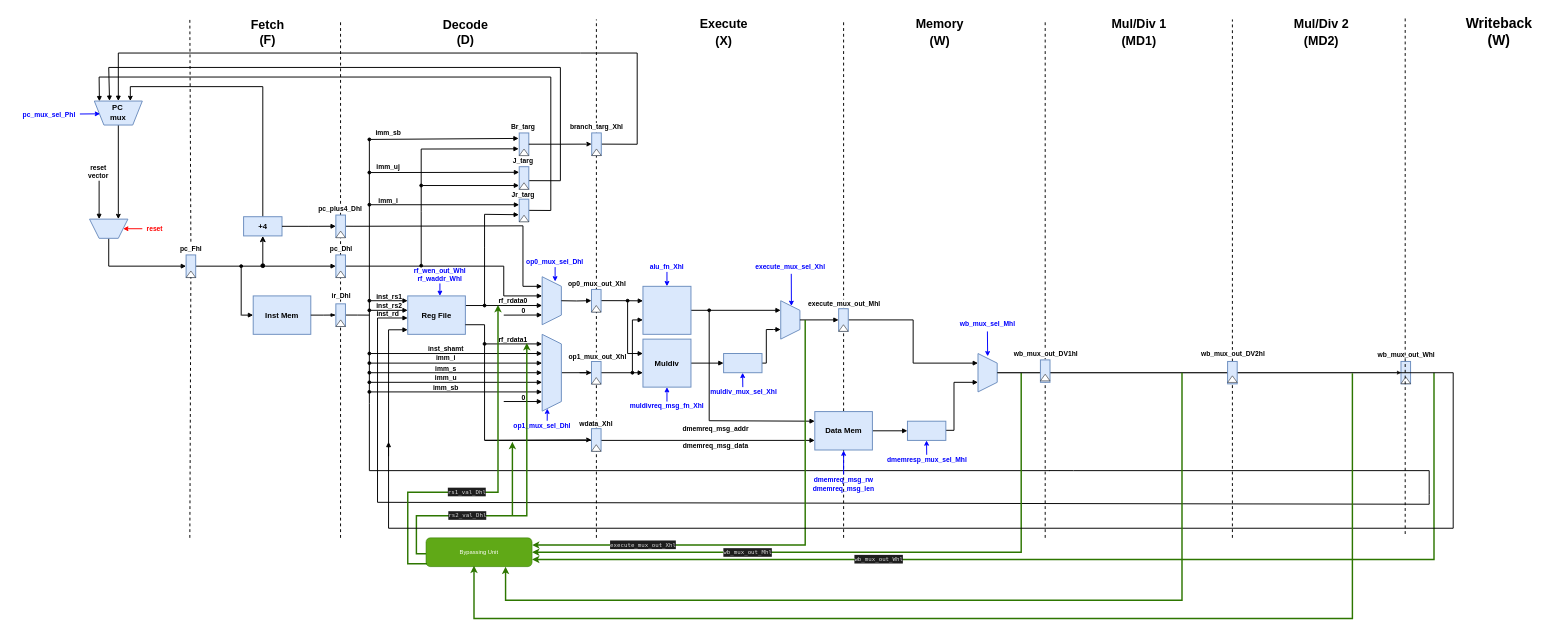
Image size: 1543x631. Some labels were removed from this diagram. Here are the shapes that lost their labels. From the top down, the centre of each, then its label:
At point (666, 310): "ALU".
At point (742, 363): "Md_mux".
At point (926, 430): "Subword".
